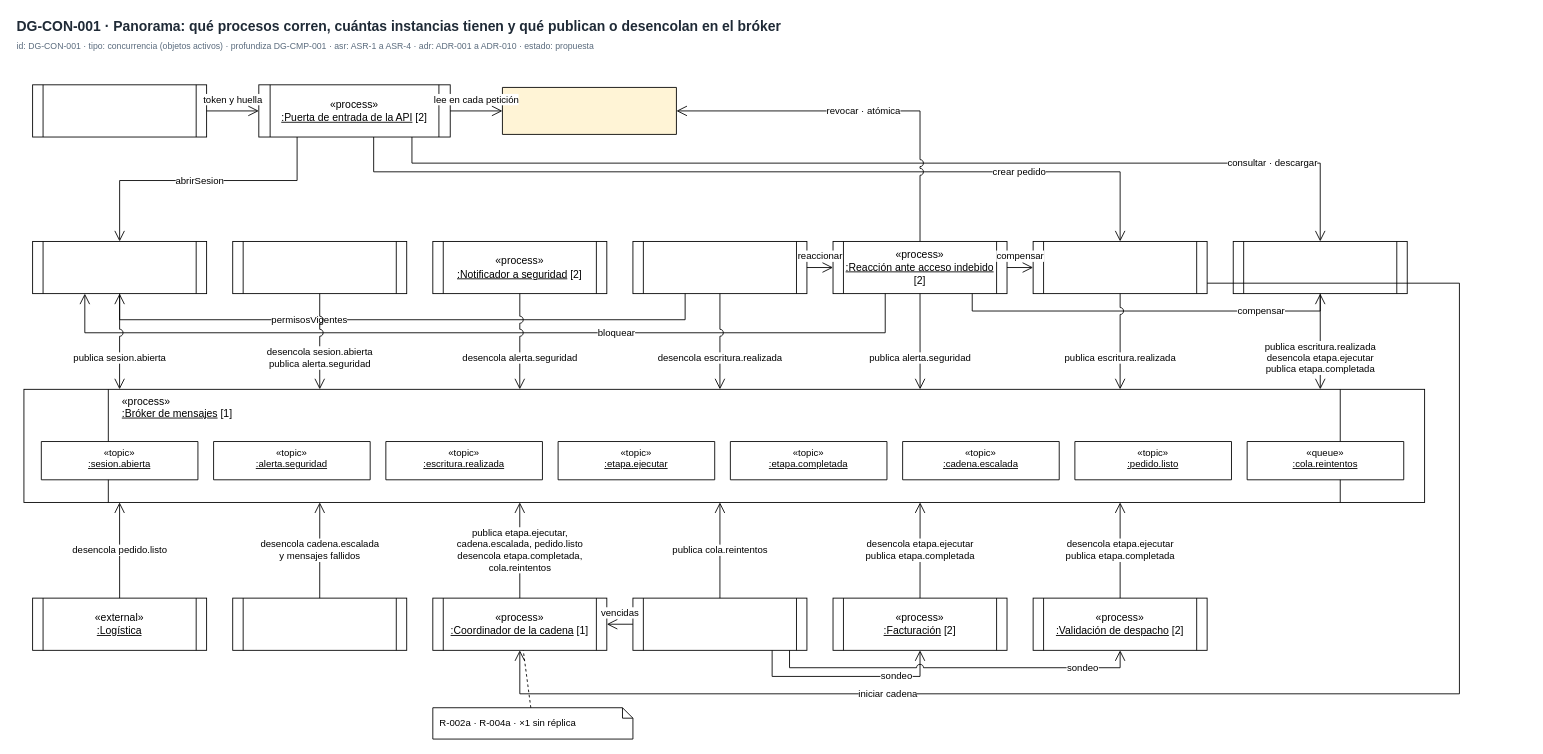
Some shapes in this 1543 by 754 pixel diagram are drawn without their labels. Each missing label, with the centre of its shape:
":Lista de revocación {guarded} · un escritor" belongs at [589,110].
"«process» :App móvil [N]" belongs at [119,110].
"«process» :Bandeja de pedidos escalados [1]" belongs at [319,623].
"«process» :Detector de escrituras indebidas [2]" belongs at [719,267].
"«process» :Gestor de sesión [2]" belongs at [119,267].
"«process» :Inventario [2]" belongs at [1319,267].
"«process» :Monitor de la cadena [1]" belongs at [719,623].
"«process» :Pedidos [2]" belongs at [1119,267].
"«process» :Verificador de dispositivo [2]" belongs at [319,267].
